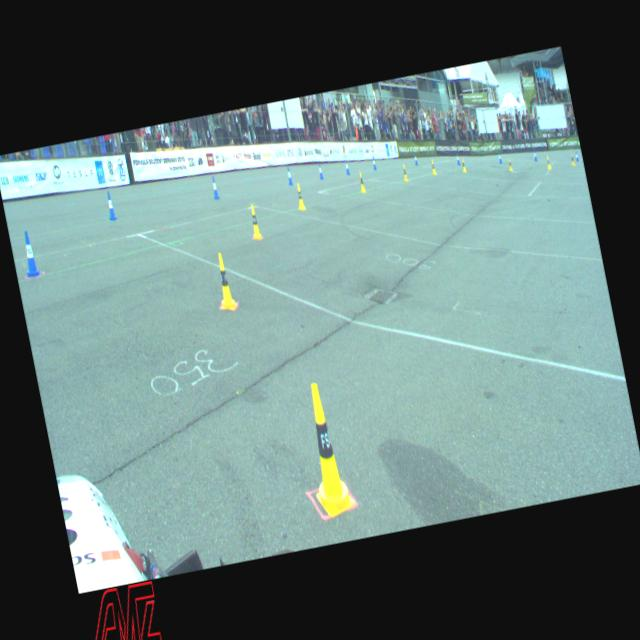blue_cone: (18, 230, 41, 276), (105, 192, 117, 221), (210, 175, 220, 200), (286, 166, 293, 184), (317, 162, 323, 178), (371, 156, 377, 170), (344, 158, 349, 174), (574, 150, 580, 162), (532, 150, 538, 161), (414, 152, 418, 164), (498, 152, 502, 163), (456, 154, 460, 164)
yellow_cone: (296, 381, 356, 518), (212, 252, 238, 312), (246, 203, 262, 240), (294, 182, 306, 210), (358, 172, 366, 192), (401, 164, 408, 182), (508, 158, 514, 170), (570, 154, 576, 166), (546, 156, 551, 170), (461, 158, 466, 172), (431, 160, 436, 174)
